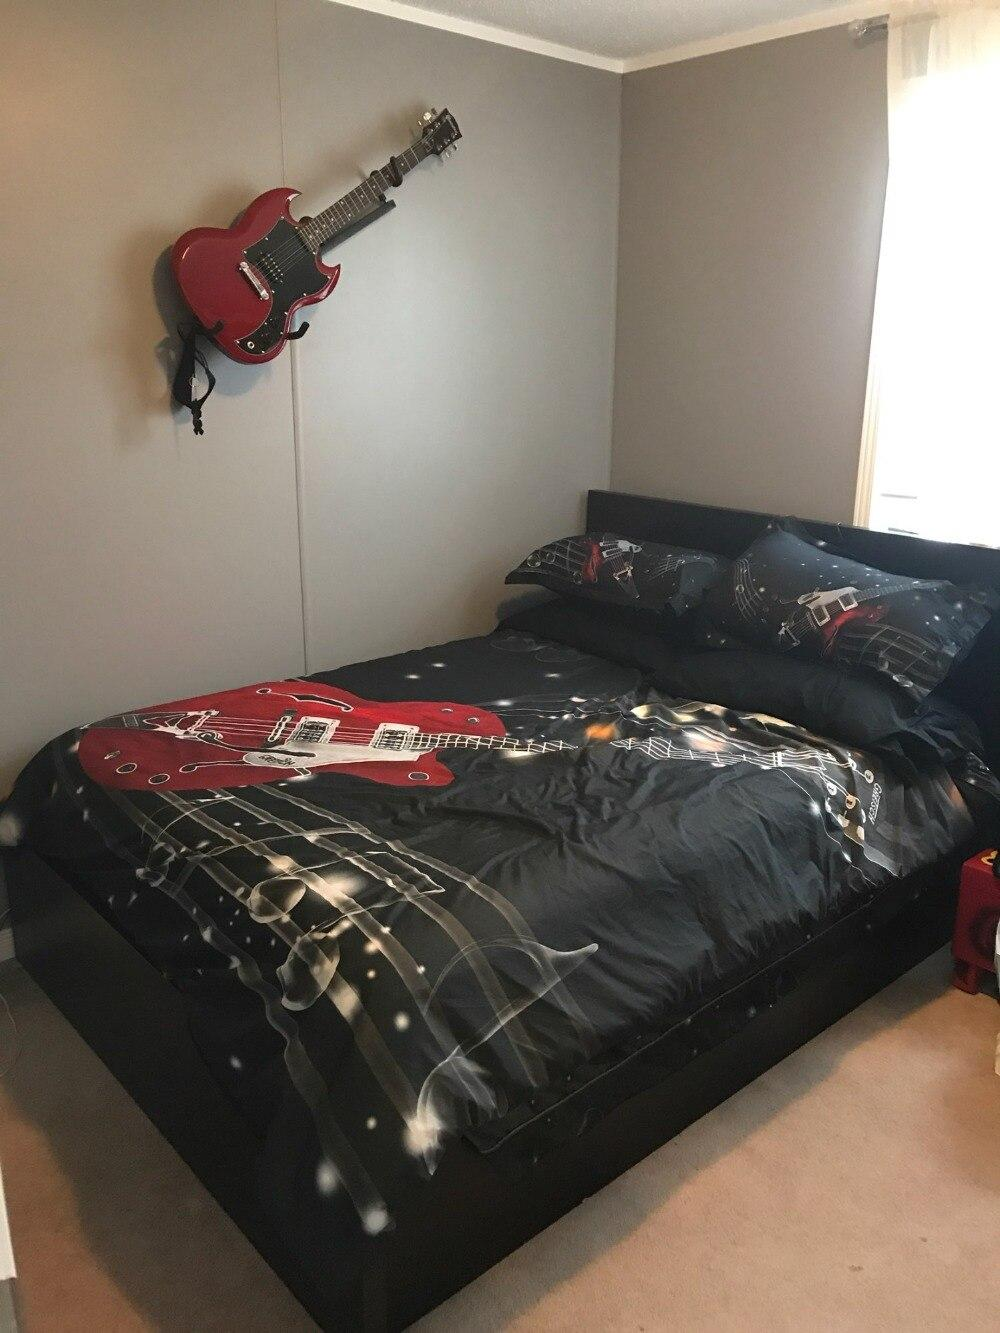bed: (100, 554, 966, 1090)
